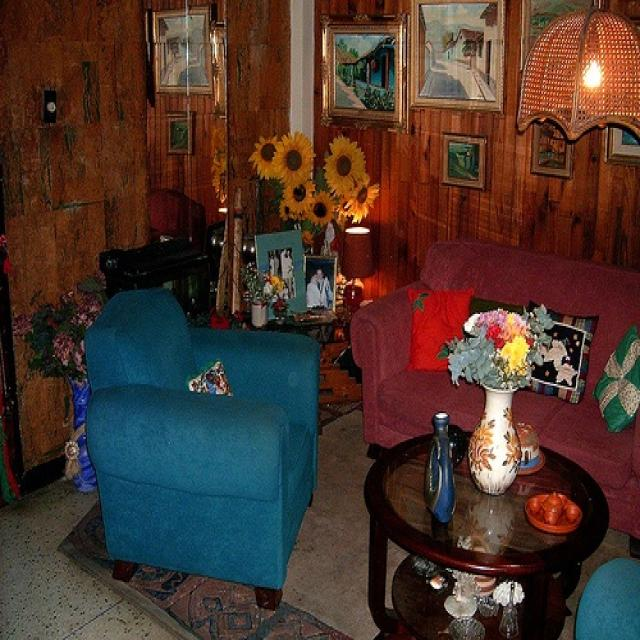chair: (85, 282, 322, 608)
sofa: (348, 234, 639, 544)
